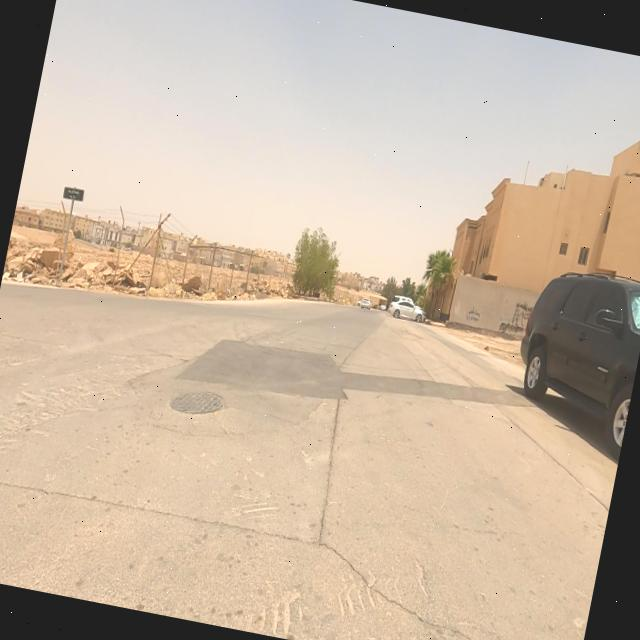Graffiti: (500, 299, 530, 334), (464, 306, 484, 324)
